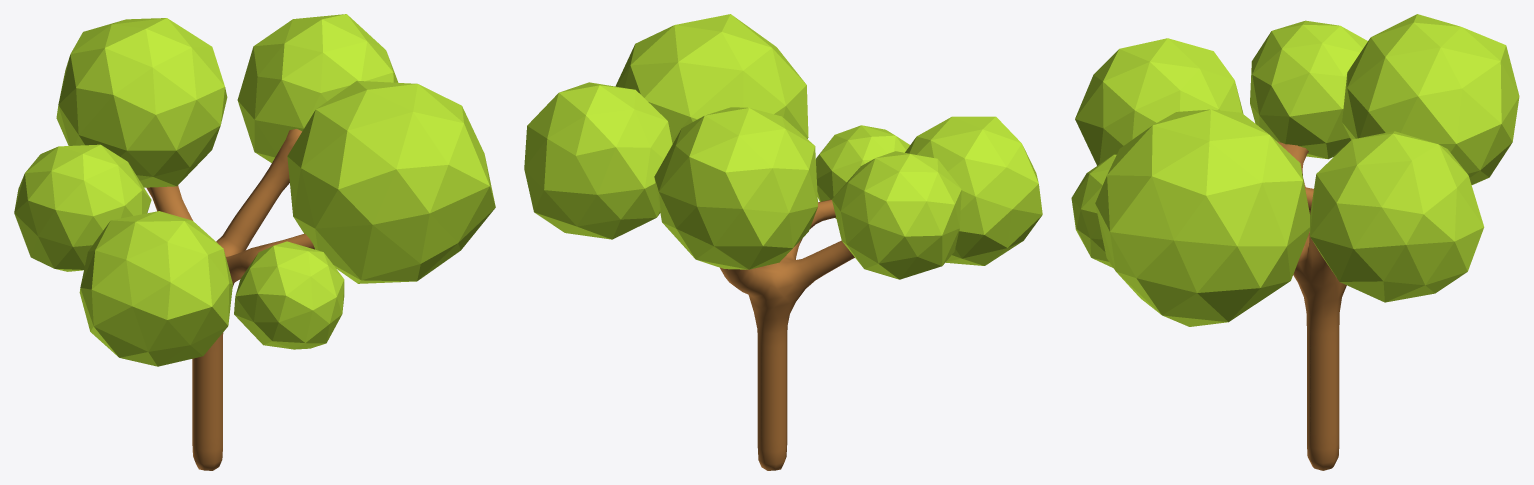
File: rgr-tree3.fbx
3 renders of one model, left to right at view 1: azimuth 30°, elevation 25°; view 2: azimuth 150°, elevation 25°; view 3: azimuth 270°, elevation 25°, orthographic. The views are drawn at different scales.
Visible parts, largest first — view 1: Plane.001; view 2: Plane.001; view 3: Plane.001.
Boxes of the visible parts, x1=… form: Plane.001: x1=14, y1=14, x2=495, y2=470; Plane.001: x1=524, y1=14, x2=1042, y2=470; Plane.001: x1=1071, y1=14, x2=1519, y2=470.
Size of the model in its own units: 1200 by 1145 by 1063.
